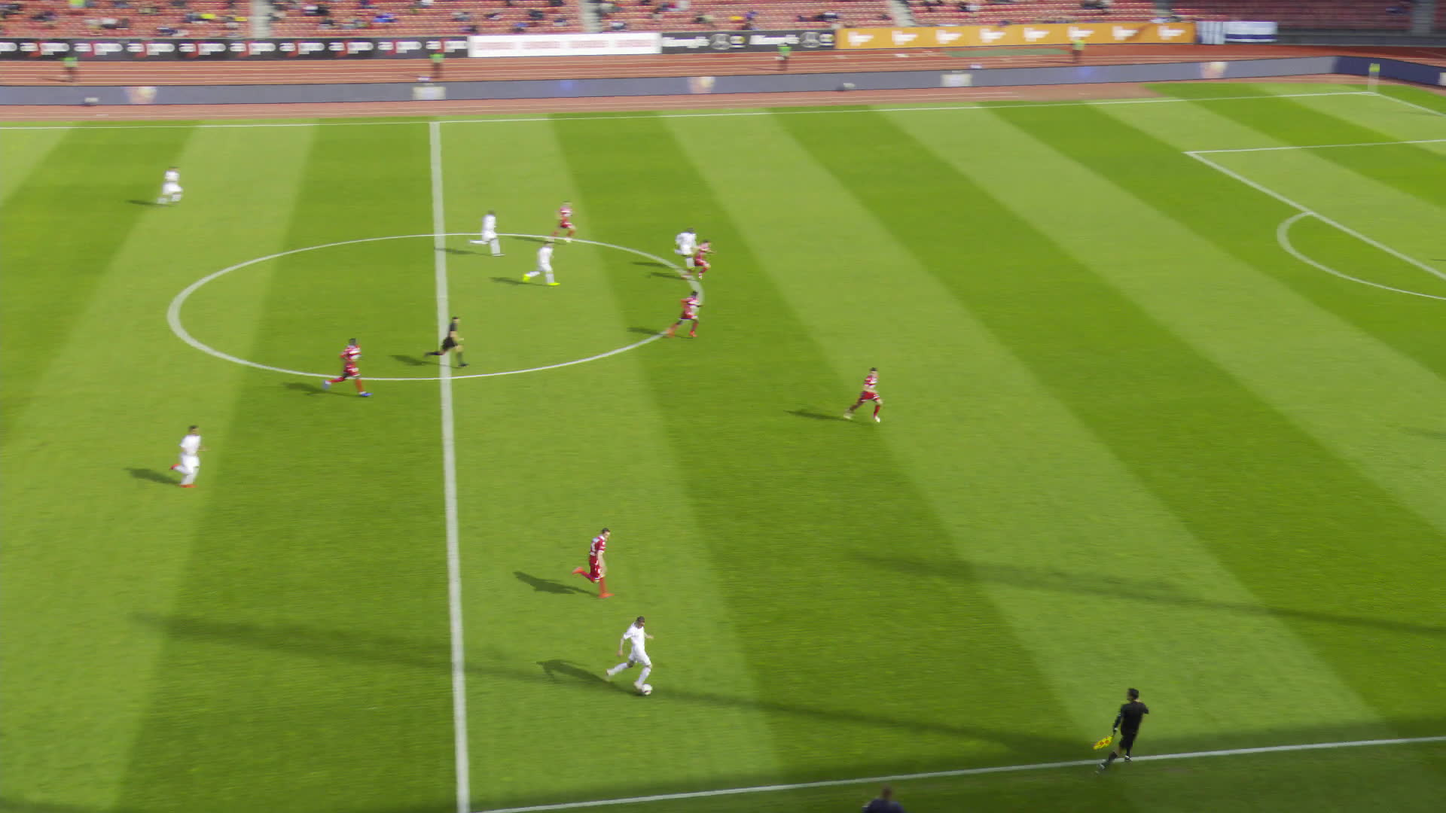ball: (640, 684, 653, 694)
player: (606, 615, 652, 693), (570, 528, 614, 601), (322, 336, 368, 397), (169, 425, 207, 489), (841, 366, 881, 422), (667, 291, 701, 338), (523, 241, 555, 287), (468, 209, 499, 255), (680, 237, 712, 281), (548, 199, 576, 237), (673, 226, 696, 269), (156, 168, 182, 206)
referee: (1099, 687, 1158, 772), (423, 316, 468, 368)
